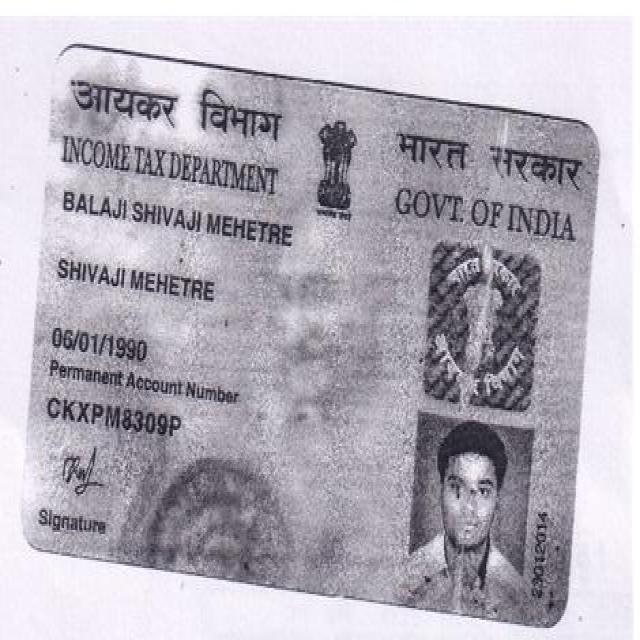pan_card: (14, 35, 602, 632)
